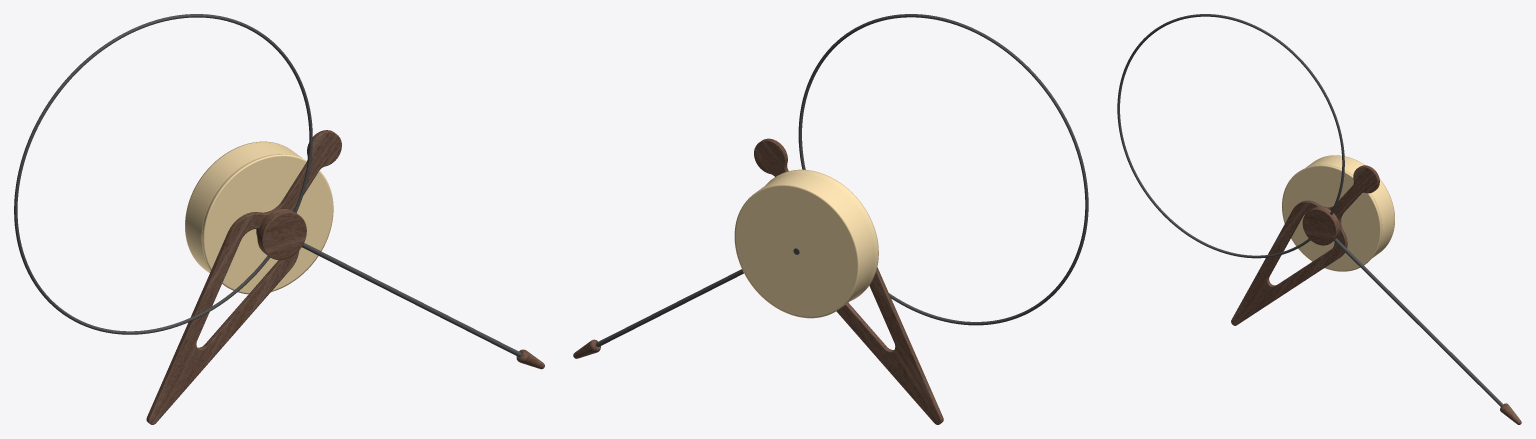
3 views of the same model, side by side, from view 1: azimuth 30°, elevation 25°; view 2: azimuth 150°, elevation 25°; view 3: azimuth 330°, elevation 25° (orthographic). The views are drawn at different scales.
Parts seen in each view (by area): view 1: 8083; view 2: 8083; view 3: 8083.
Part boxes in pixels (left/top/right/bottom): 8083: left=14, top=14, right=544, bottom=424; 8083: left=573, top=14, right=1088, bottom=424; 8083: left=1117, top=14, right=1521, bottom=424.
Size of the model in its own units: 0.3588 by 0.2864 by 0.0429.
Materials: 1 (1 with a texture image).
